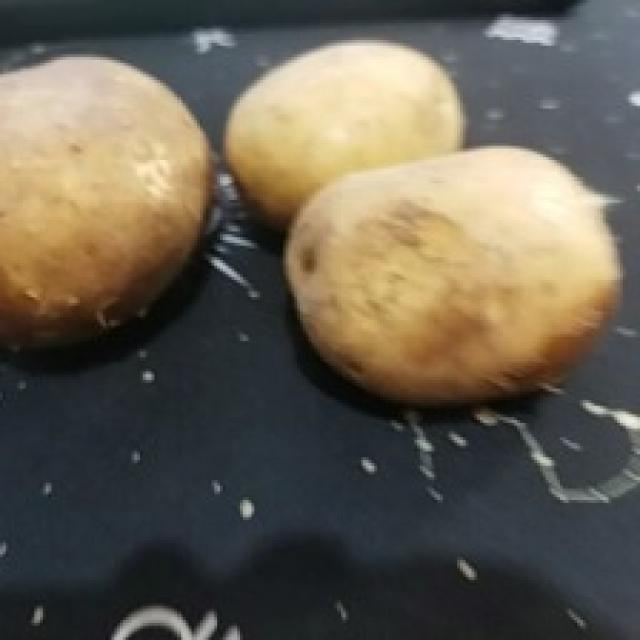Potato: (281, 145, 624, 412), (0, 55, 216, 356), (223, 40, 468, 232)
